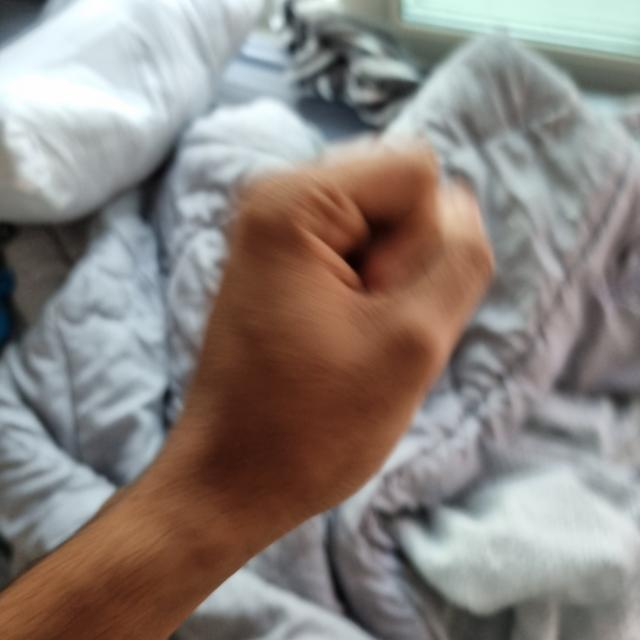Rock: (170, 145, 493, 531)
